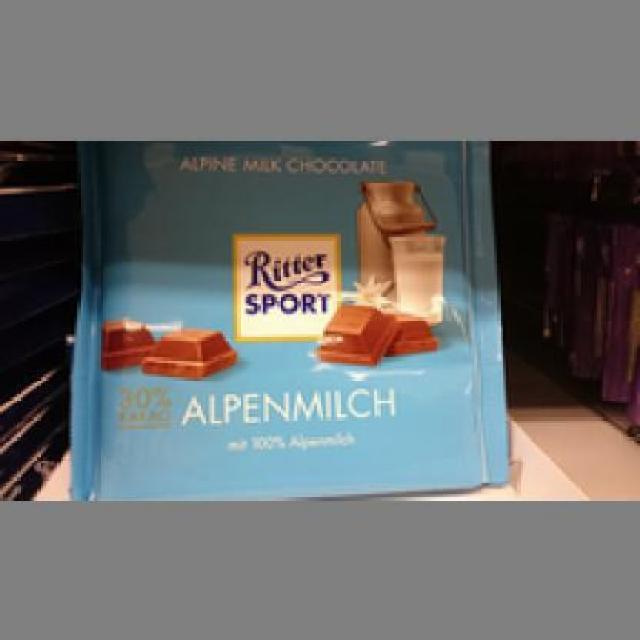Chocolate bar: (70, 140, 508, 494)
